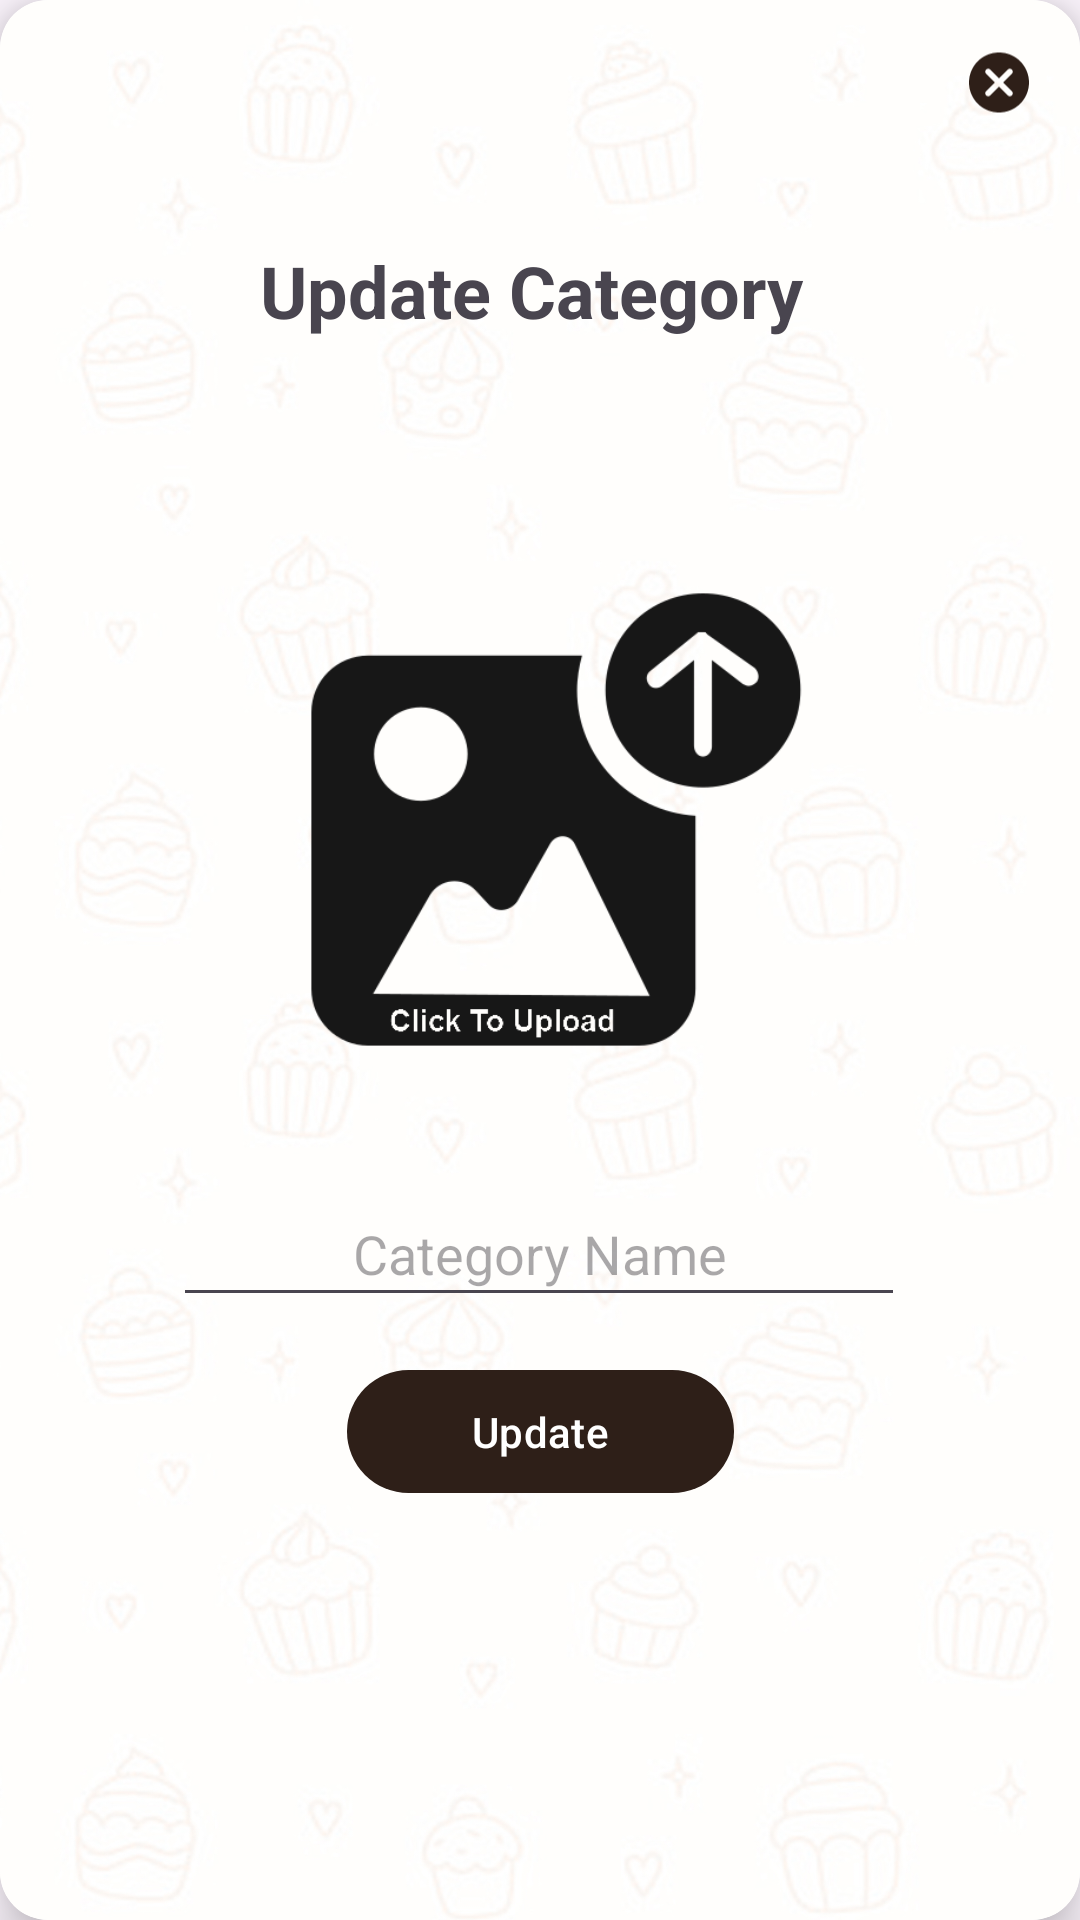

Screen size 1080px x 1920px. Icon name, then its center in pixels as (x=x, y=y):
close: (x=999, y=82)
